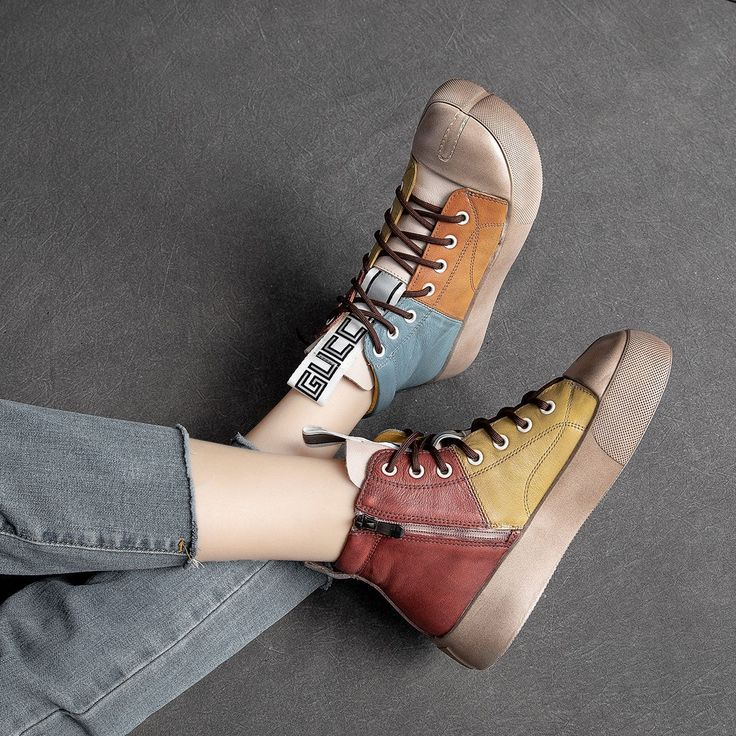cuero: (320, 101, 629, 639)
